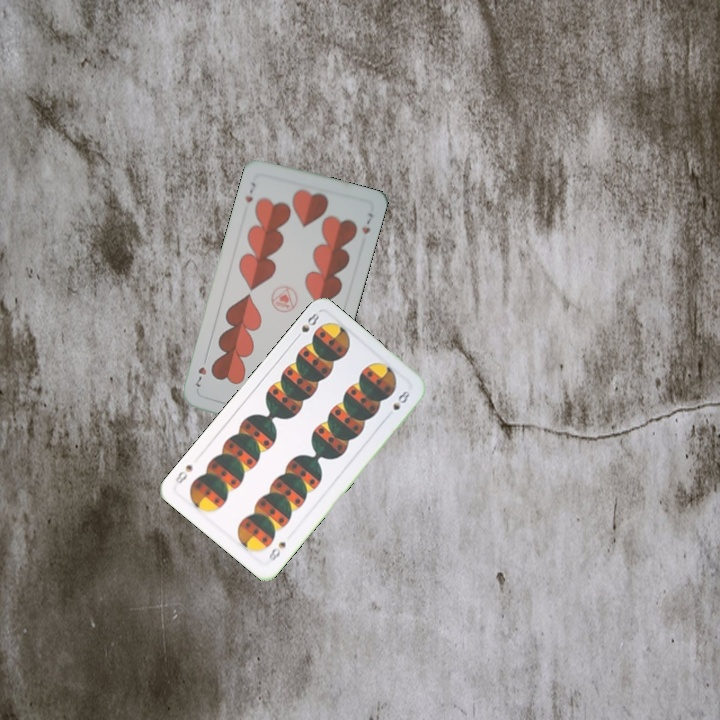H7: (240, 178, 258, 205)
S8: (290, 309, 322, 343), (264, 538, 289, 564)
